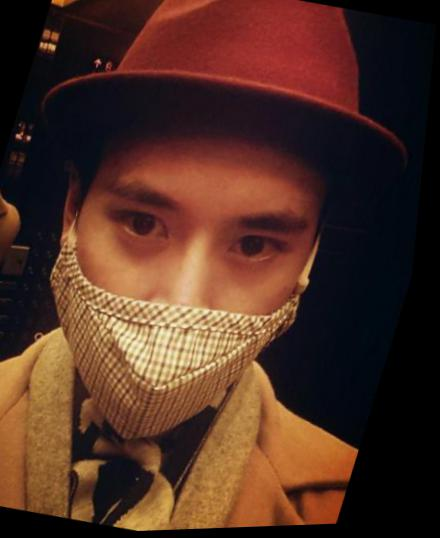WRONG: (20, 164, 337, 467)
